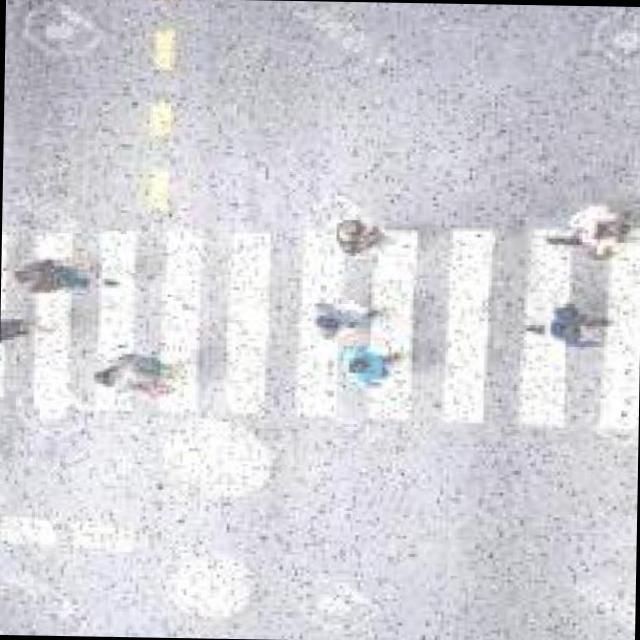zebra: (0, 213, 640, 431)
